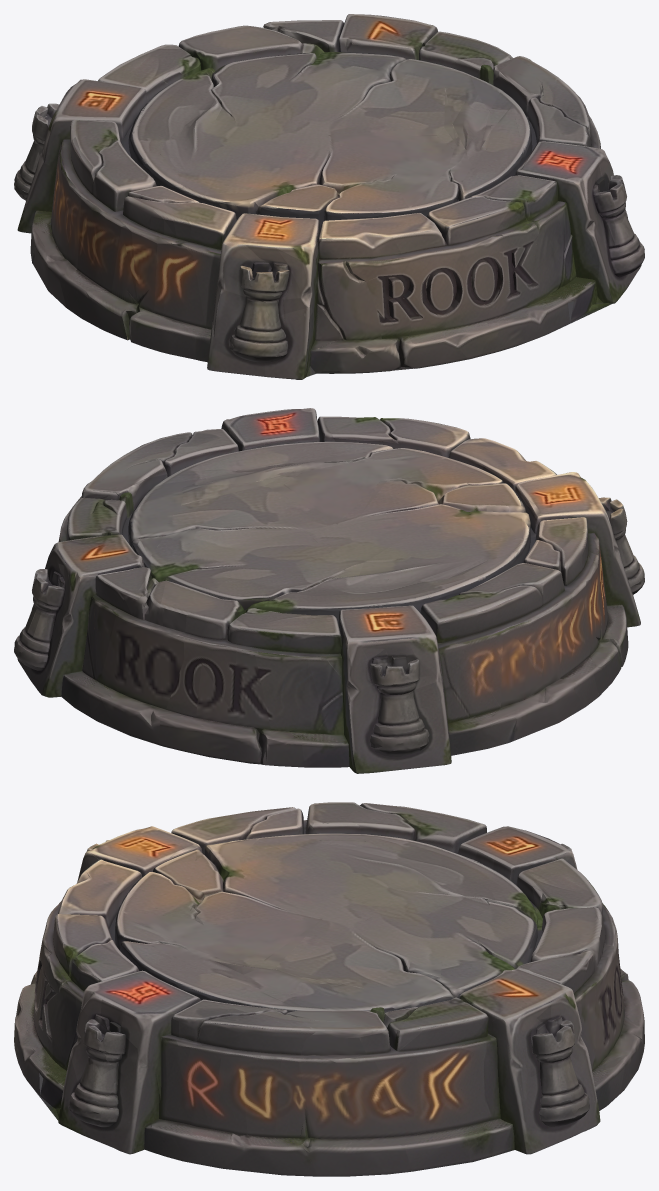
Rendered from rook_3d_mesh.glb.
3 views of the same model, one above another, from view 1: azimuth 30°, elevation 25°; view 2: azimuth 150°, elevation 25°; view 3: azimuth 270°, elevation 25° (orthographic). The views are drawn at different scales.
Parts seen in each view (by area): view 1: Mesh_0; view 2: Mesh_0; view 3: Mesh_0.
Boxes of the visible parts, bbox=[...] form: Mesh_0: bbox=[14, 14, 644, 379]; Mesh_0: bbox=[14, 408, 644, 773]; Mesh_0: bbox=[14, 802, 644, 1176].
Bounding box in the file's own units: 1.9 × 0.4244 × 1.9.
1 material, 1 textured.
